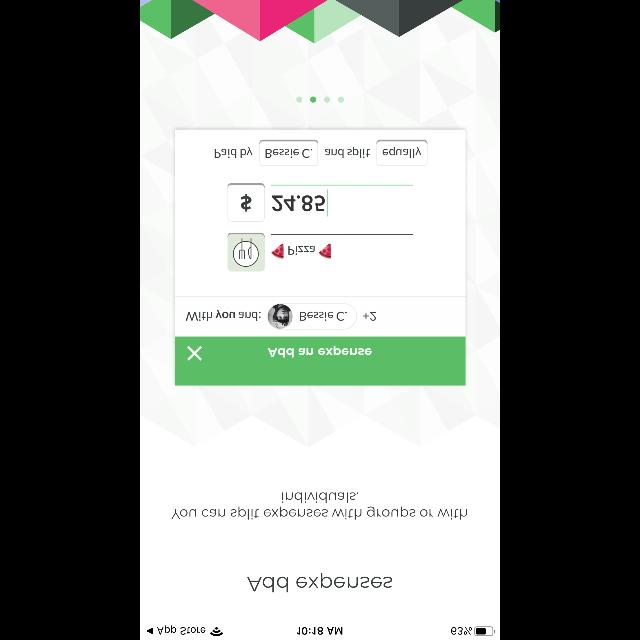image: (175, 130, 465, 386), (140, 1, 500, 40)
pageindicator: (296, 96, 344, 102)
text: (172, 492, 466, 520), (248, 572, 392, 592)
uppertaskbar: (140, 625, 500, 639)
